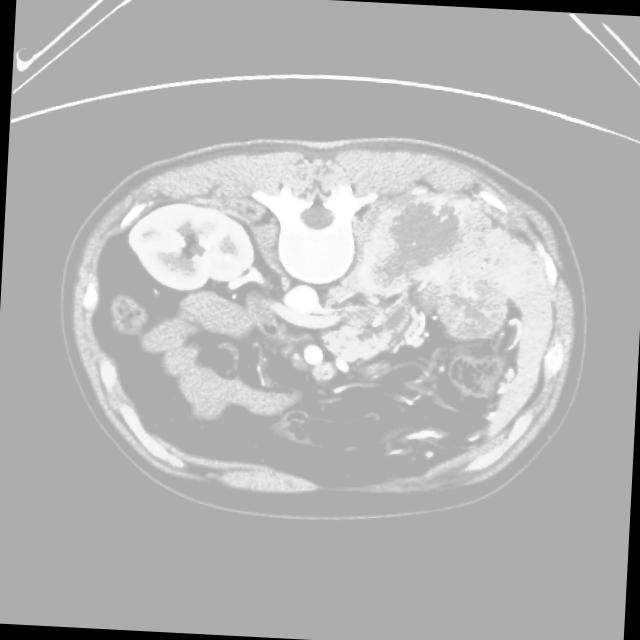TUMOR: (34, 191, 548, 452)
